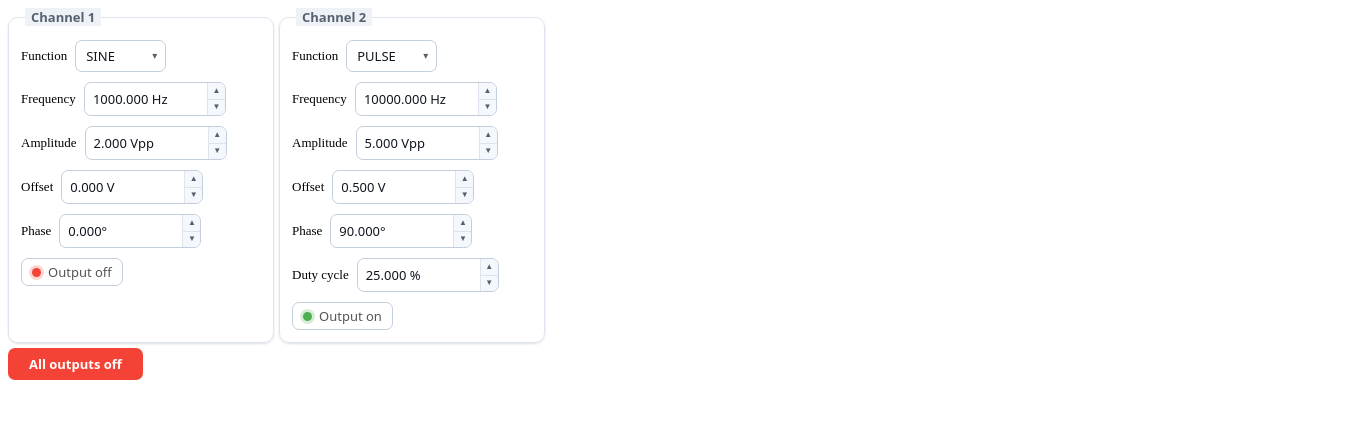
Scenario: AwgPanel › reconciles to instrument truth after a failed write
This screenshot has width=1366, height=434.
Replace the text in the field named "Channel 1 frequency" with "2500" at (146, 99), box top-left (85, 83), bottom-right (207, 115)
Then press Enter
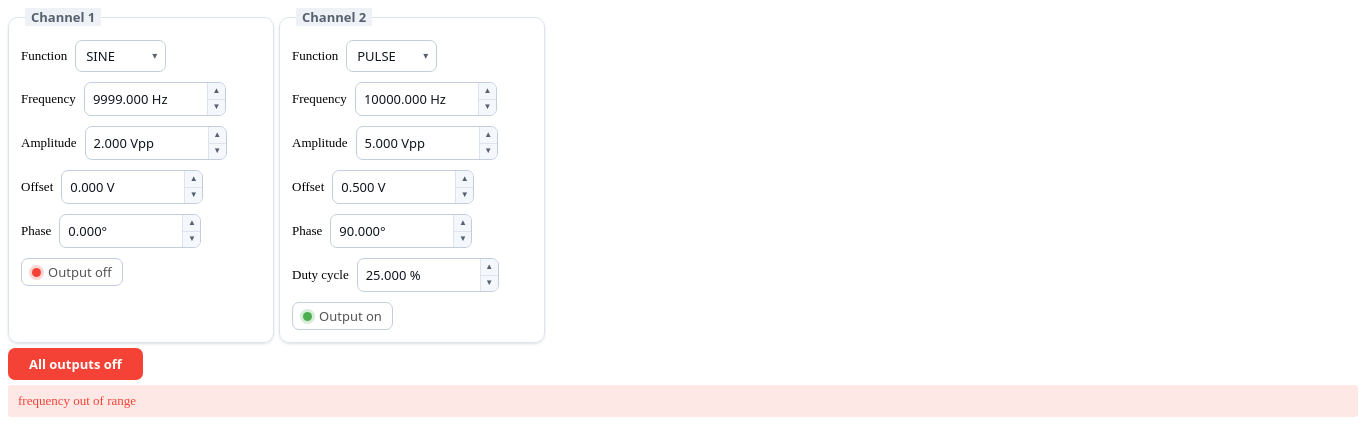
Result: the message "frequency out of range" is shown at top-left (8, 385), bottom-right (1358, 417)
Result: the field named "Channel 1 frequency" holds "9999.000 Hz" at top-left (85, 83), bottom-right (207, 115)
